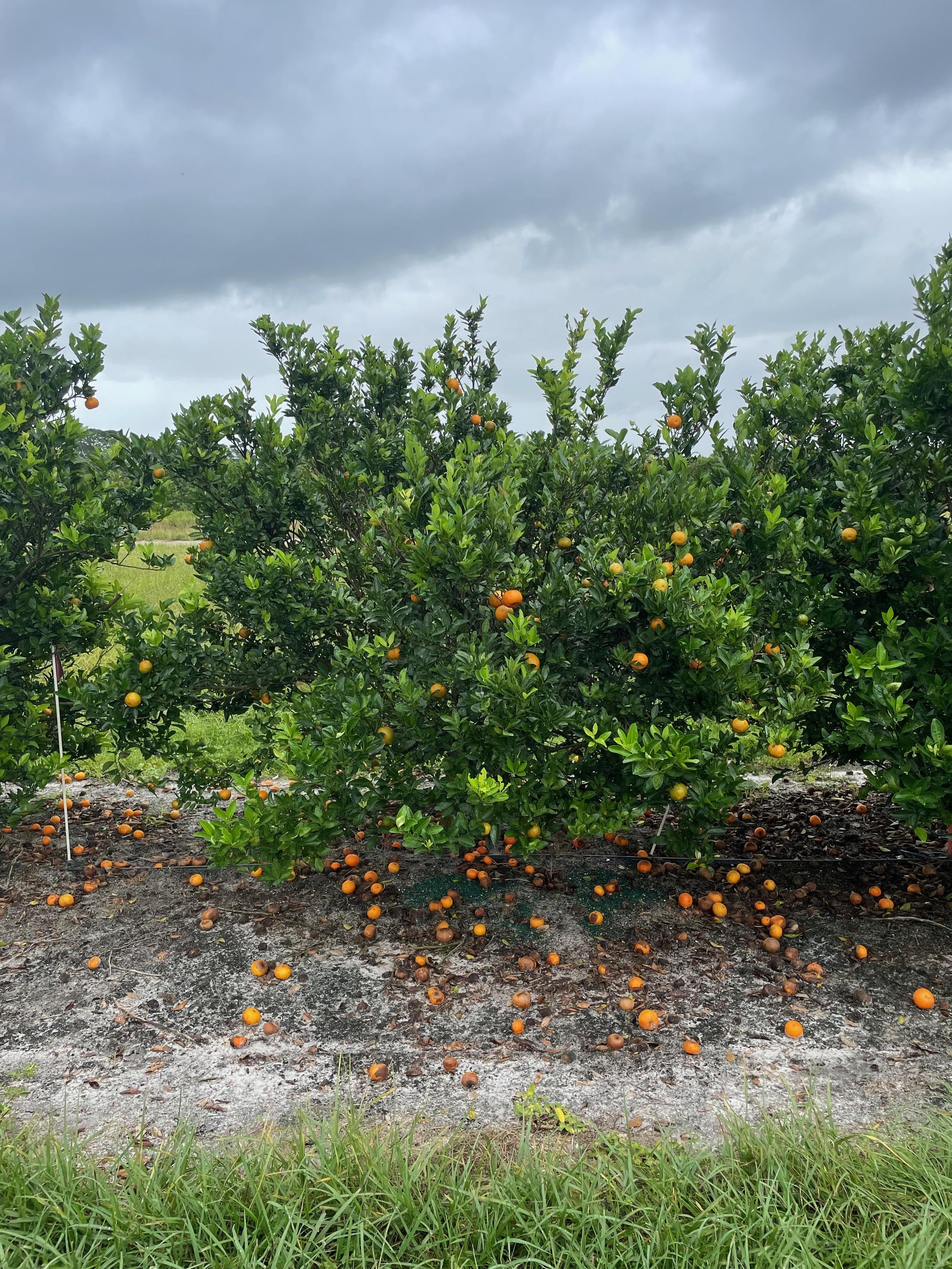fruit_on_ground: (399, 534, 422, 556), (667, 780, 690, 802), (520, 651, 542, 673), (374, 724, 396, 746), (839, 523, 861, 544), (628, 650, 650, 671), (502, 587, 523, 608), (668, 528, 689, 548), (428, 680, 449, 700), (123, 689, 144, 709), (487, 589, 507, 609), (762, 639, 783, 658), (766, 741, 788, 759), (136, 656, 156, 675), (82, 393, 102, 412), (384, 644, 404, 663), (648, 614, 668, 633), (730, 715, 750, 734), (196, 536, 217, 554), (494, 604, 515, 622), (728, 521, 749, 539), (684, 655, 706, 672), (665, 412, 685, 430), (606, 561, 626, 578), (525, 821, 543, 839), (234, 622, 252, 640), (408, 587, 426, 605), (150, 463, 168, 481), (475, 820, 494, 837), (658, 559, 675, 577), (556, 534, 574, 551), (676, 551, 694, 568), (650, 577, 669, 593), (67, 595, 84, 612), (445, 376, 461, 393), (258, 690, 274, 706), (483, 418, 498, 434), (795, 612, 810, 627), (581, 575, 595, 590), (218, 787, 233, 801), (368, 756, 382, 770), (450, 386, 464, 399), (256, 789, 269, 802), (469, 413, 482, 426), (530, 518, 544, 530), (184, 553, 196, 566)
fruit_on_tree: (912, 987, 935, 1010), (366, 1061, 390, 1083), (637, 1008, 660, 1030), (510, 989, 532, 1009), (241, 1006, 262, 1026), (250, 957, 271, 977), (766, 921, 786, 941), (784, 1019, 804, 1038), (273, 961, 293, 980), (427, 986, 446, 1005), (460, 1068, 479, 1087), (852, 986, 872, 1004), (81, 877, 102, 894), (803, 960, 824, 977), (782, 976, 800, 995), (434, 921, 453, 939), (441, 1053, 460, 1071), (606, 1031, 625, 1049), (516, 955, 536, 972), (682, 1037, 702, 1054), (763, 936, 782, 953), (760, 981, 780, 997), (339, 877, 357, 894), (343, 852, 362, 868), (616, 995, 635, 1011), (677, 891, 694, 908), (510, 1017, 526, 1035), (782, 946, 802, 960), (86, 953, 102, 970), (628, 974, 645, 990), (588, 909, 605, 925), (697, 895, 715, 910), (230, 1033, 248, 1048), (877, 896, 895, 911), (366, 896, 382, 912), (712, 902, 728, 918), (634, 939, 651, 954), (413, 966, 429, 981), (82, 863, 98, 878), (477, 872, 493, 887), (854, 943, 869, 959), (447, 890, 464, 904), (920, 862, 937, 876), (768, 912, 785, 926), (203, 906, 220, 920), (188, 872, 205, 886), (865, 883, 882, 897), (528, 914, 545, 928), (363, 869, 380, 883), (362, 923, 377, 938), (59, 892, 74, 907), (367, 904, 382, 919), (750, 858, 766, 872), (368, 881, 384, 895), (906, 880, 922, 894), (200, 915, 217, 928), (636, 860, 653, 873), (59, 795, 74, 809), (848, 890, 863, 904), (725, 869, 740, 883), (46, 891, 60, 906), (545, 951, 560, 965), (699, 867, 715, 880), (427, 899, 443, 912), (759, 913, 773, 927), (439, 895, 453, 909), (763, 877, 777, 891), (473, 922, 487, 936), (606, 878, 621, 891), (735, 862, 750, 875), (502, 843, 517, 856), (706, 889, 722, 901), (742, 839, 758, 851), (596, 962, 609, 976), (387, 860, 401, 873), (413, 953, 427, 966), (855, 802, 869, 815), (808, 813, 822, 826), (191, 855, 206, 867), (249, 865, 264, 877), (328, 858, 343, 870), (284, 869, 298, 881), (504, 833, 518, 845), (723, 811, 737, 823), (592, 884, 606, 896), (464, 867, 478, 879), (73, 769, 87, 781), (616, 834, 630, 846), (502, 891, 516, 903), (41, 823, 55, 835), (132, 826, 146, 838), (474, 907, 488, 919), (117, 822, 131, 834), (663, 862, 678, 873), (341, 846, 356, 857), (641, 806, 654, 818), (48, 813, 61, 825), (72, 843, 85, 855), (169, 808, 182, 820), (754, 899, 767, 911), (1, 823, 14, 835), (374, 816, 388, 827), (122, 806, 136, 817), (462, 851, 476, 862), (603, 829, 615, 841), (530, 877, 543, 888), (712, 838, 725, 849), (354, 829, 367, 840), (99, 858, 112, 869), (635, 847, 648, 858), (754, 826, 767, 837), (115, 858, 129, 868), (169, 798, 181, 809), (806, 785, 818, 796), (40, 834, 52, 845), (271, 781, 283, 792), (571, 837, 582, 849), (481, 854, 493, 865), (507, 856, 519, 867), (79, 796, 91, 807), (145, 780, 156, 791), (391, 839, 402, 850), (524, 863, 535, 874), (765, 812, 777, 822), (101, 808, 113, 818), (139, 799, 151, 809), (741, 812, 753, 822), (286, 778, 297, 788), (124, 787, 135, 797), (471, 849, 482, 859), (56, 772, 68, 781), (476, 846, 488, 855), (62, 775, 74, 784), (29, 822, 40, 831), (477, 839, 488, 847)
